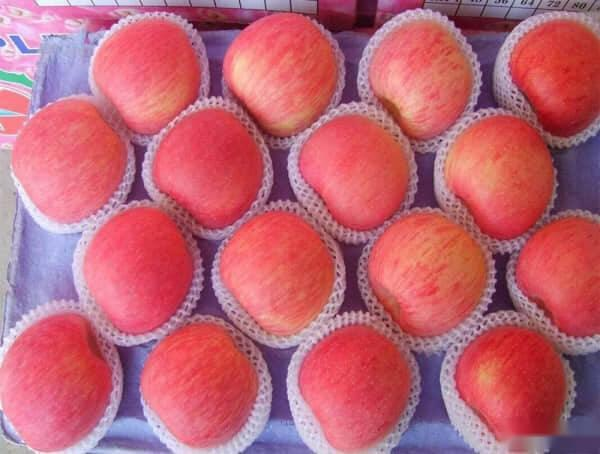apple: (1, 304, 121, 451), (220, 11, 343, 139), (365, 212, 486, 339), (10, 95, 128, 224), (297, 324, 414, 452), (220, 211, 336, 340), (363, 11, 477, 141), (139, 325, 259, 448), (89, 12, 207, 137), (438, 113, 554, 240), (79, 207, 192, 334), (151, 106, 262, 233), (456, 323, 568, 440), (298, 114, 409, 231), (508, 18, 600, 142), (518, 216, 600, 343)
